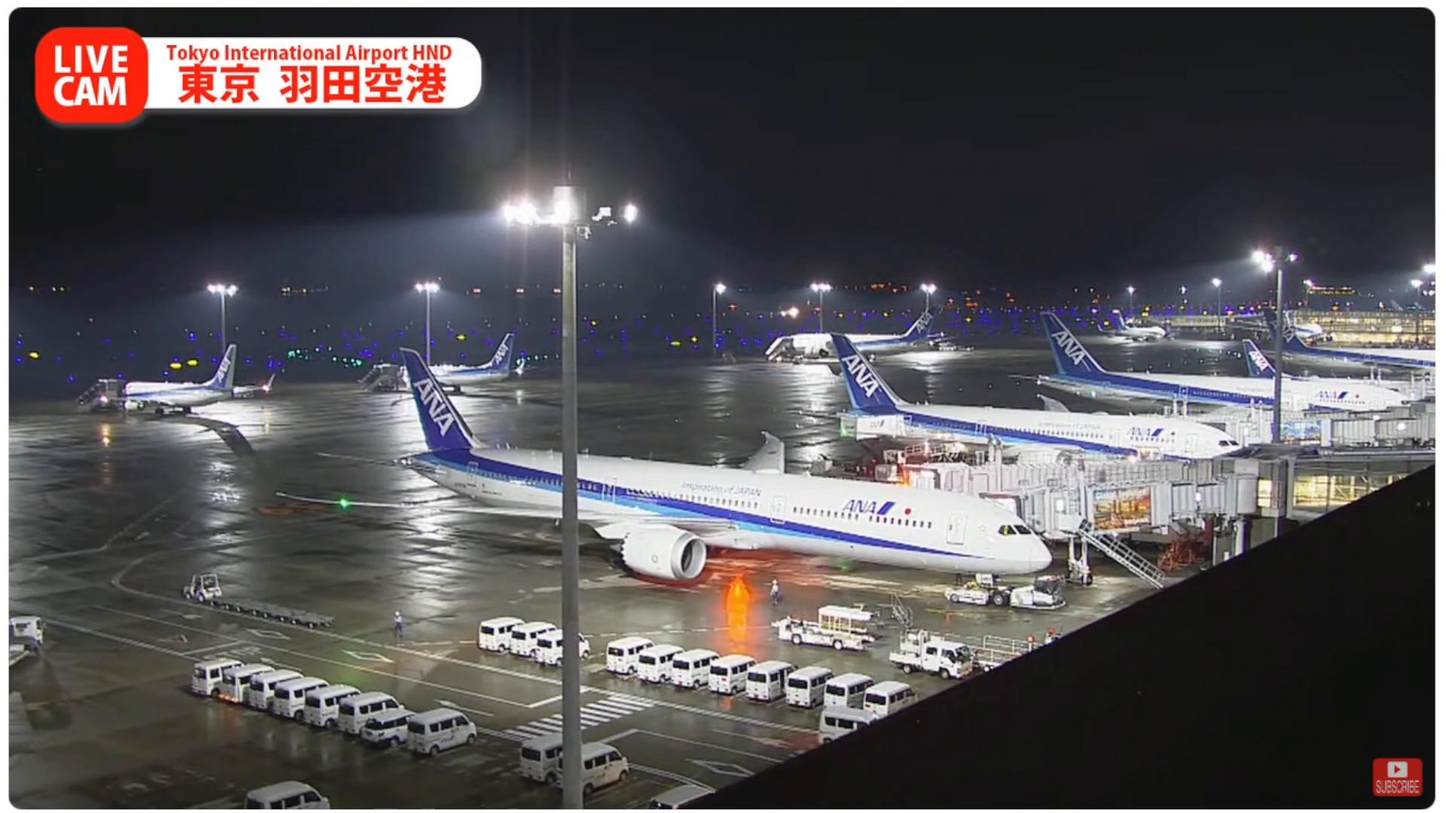Aerobridge: (904, 454, 1290, 516), (978, 469, 1279, 540)
Airplane: (266, 342, 1061, 592)
Dolly: (217, 593, 346, 639)
JCPL: (950, 628, 1054, 653)
Skyloader: (765, 599, 889, 659)
Tow Tug: (892, 628, 983, 686), (944, 578, 1072, 614)
Tractor: (169, 569, 227, 611)
Window: (1291, 459, 1429, 518)
